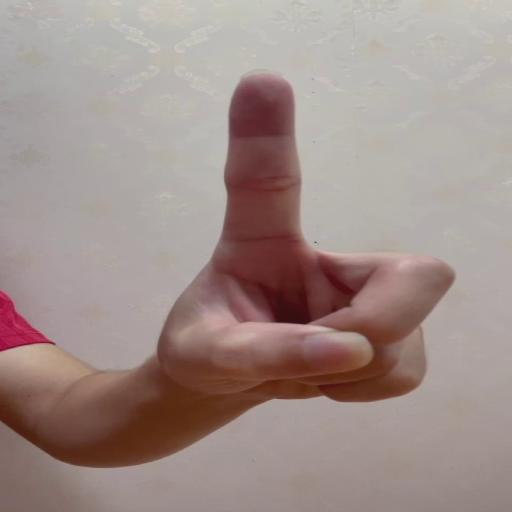point: (203, 70, 459, 403)
